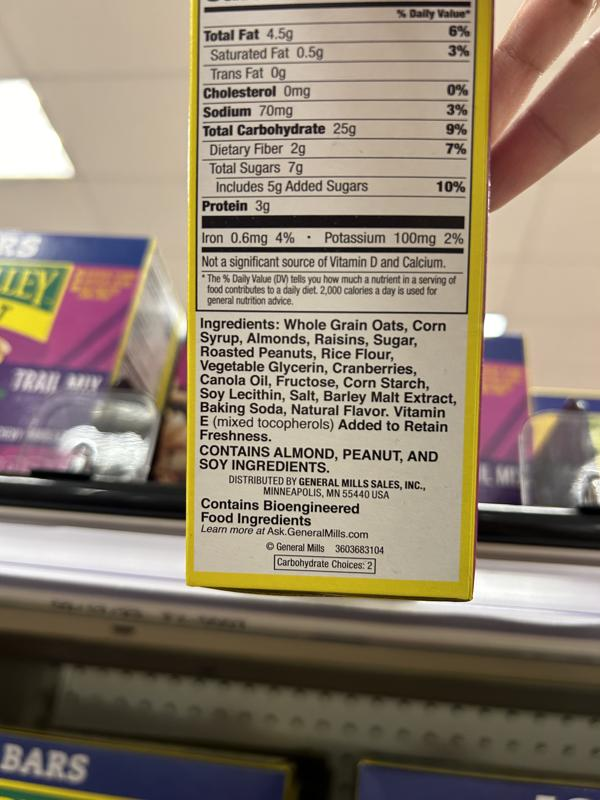ingredients: (195, 316, 461, 444)
